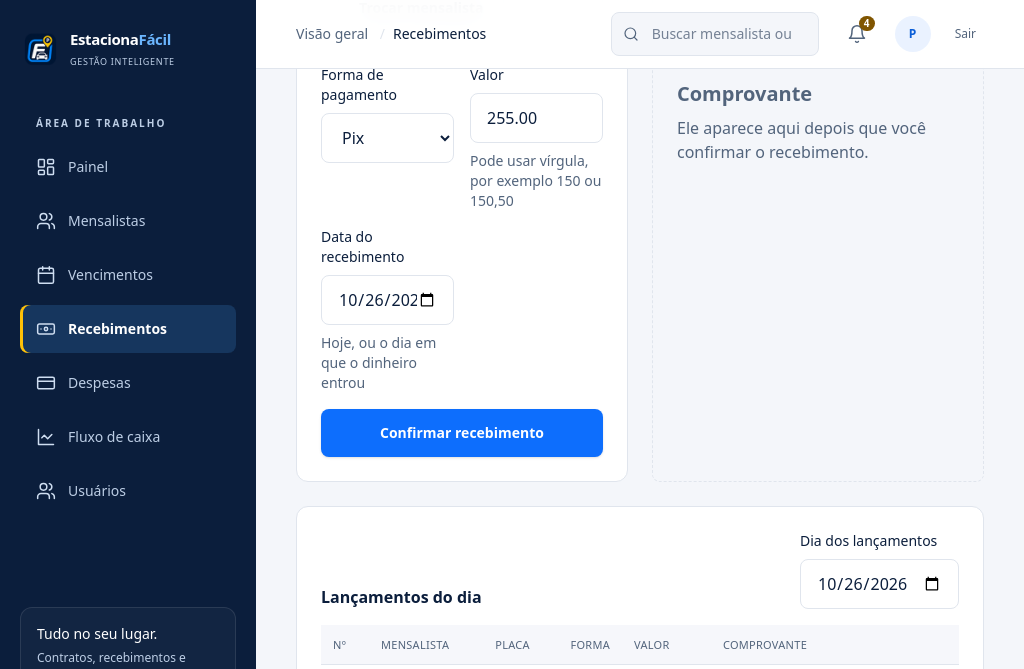
Scenario: aba Recebimentos › confirmar mostra o comprovante completo e atualiza os lançamentos do dia
The image size is (1024, 669).
(page scrolled)
Expected: the field labelled "Valor" holds "255.00", [470, 93, 603, 143]
Click the button "Confirmar recebimento". click: (462, 433)
box: [321, 409, 603, 457]
(page scrolled)
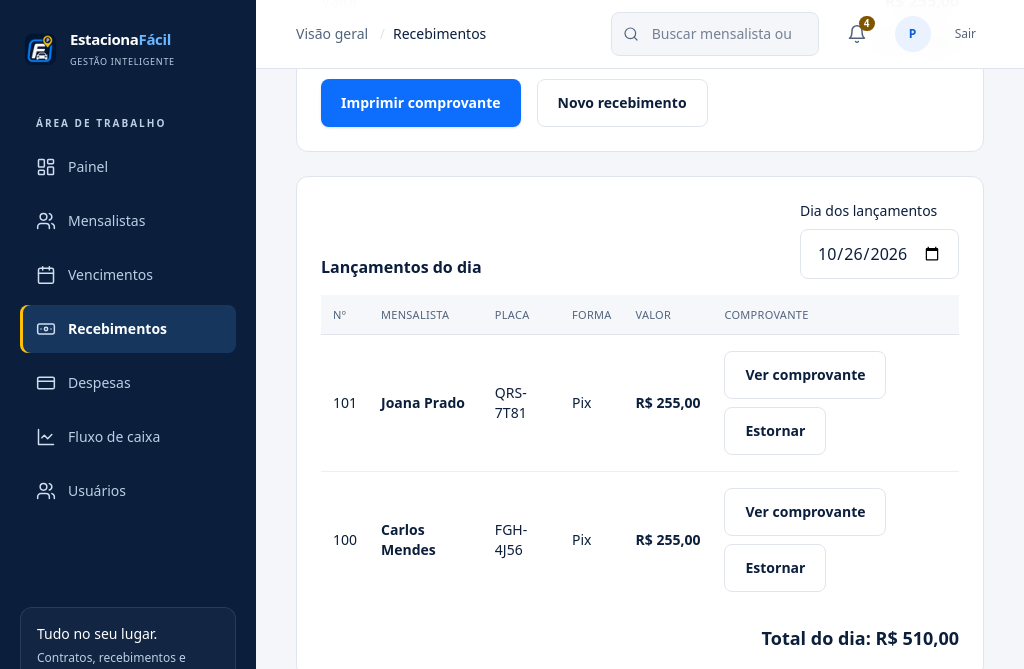
Expected: the text "28/11/2026" is shown, [873, 30, 959, 54]
Now the text "Joana Prado" is shown, box [369, 335, 483, 472]
